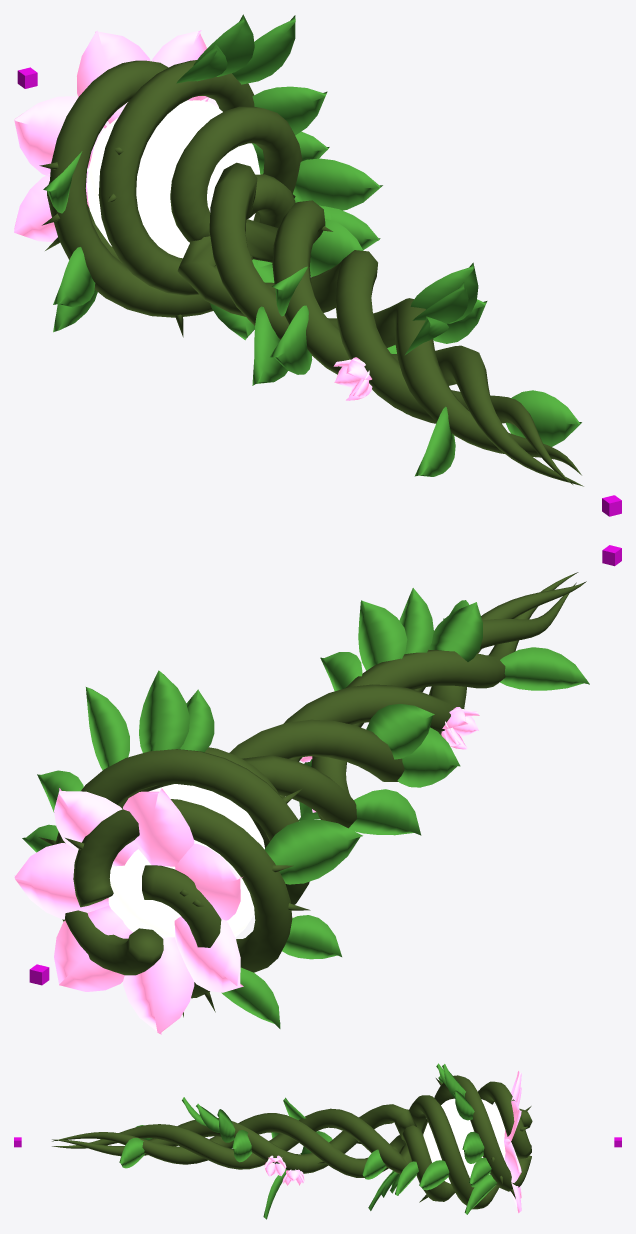
The model's file is NatureBlast.fbx.
The picture shows the model from 3 angles, top to bottom: view 1: azimuth 30°, elevation 25°; view 2: azimuth 150°, elevation 25°; view 3: azimuth 270°, elevation 25°; orthographic projection. The views are drawn at different scales.
Visible parts, largest first — view 1: Vines, Leaves, Blossoms, Core.003; view 2: Vines, Leaves, Blossoms, Core.003; view 3: Vines, Leaves, Core.003, Blossoms.
Part boxes in pixels (bbox=[...]): Vines: bbox=[39, 60, 583, 486]; Leaves: bbox=[43, 14, 581, 476]; Blossoms: bbox=[14, 30, 372, 400]; Core.003: bbox=[87, 100, 260, 258]; Vines: bbox=[38, 572, 586, 1017]; Leaves: bbox=[22, 588, 589, 1028]; Blossoms: bbox=[14, 707, 479, 1034]; Core.003: bbox=[108, 784, 264, 937]; Vines: bbox=[52, 1075, 532, 1209]; Leaves: bbox=[119, 1063, 496, 1219]; Core.003: bbox=[423, 1098, 505, 1183]; Blossoms: bbox=[264, 1071, 521, 1213].
Bounding box in the file's own units: 2.54 × 2.32 × 8.1.
